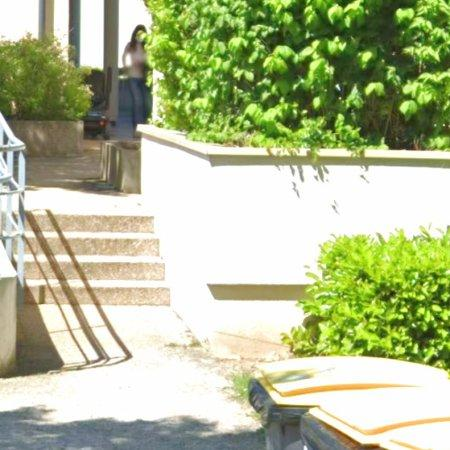stairs: (55, 216, 169, 306), (34, 212, 91, 304), (26, 250, 54, 304)
